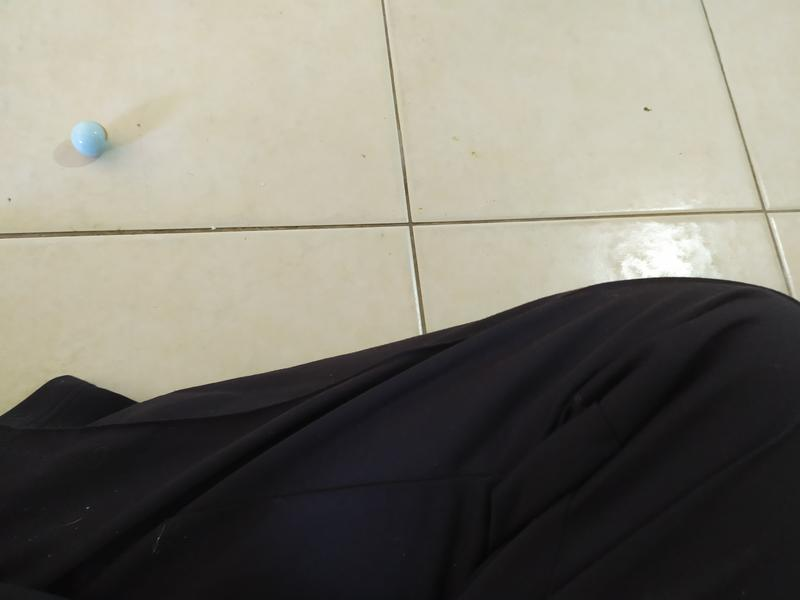Warning: (68, 118, 111, 160)
